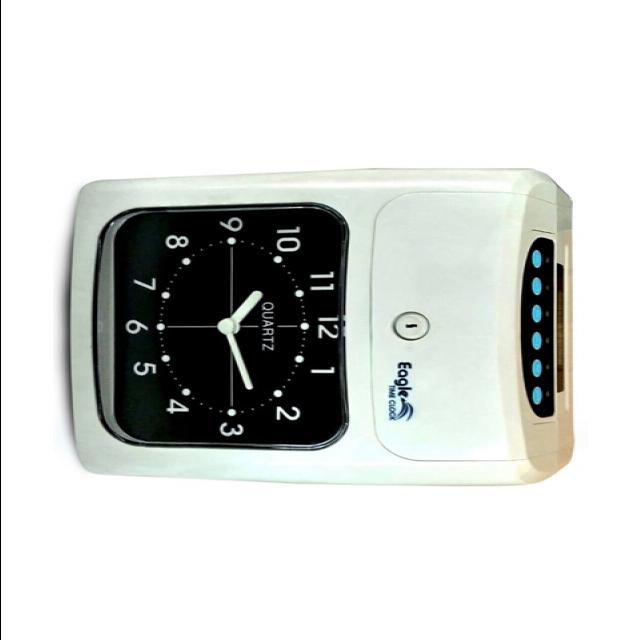clock: (0, 106, 402, 546)
